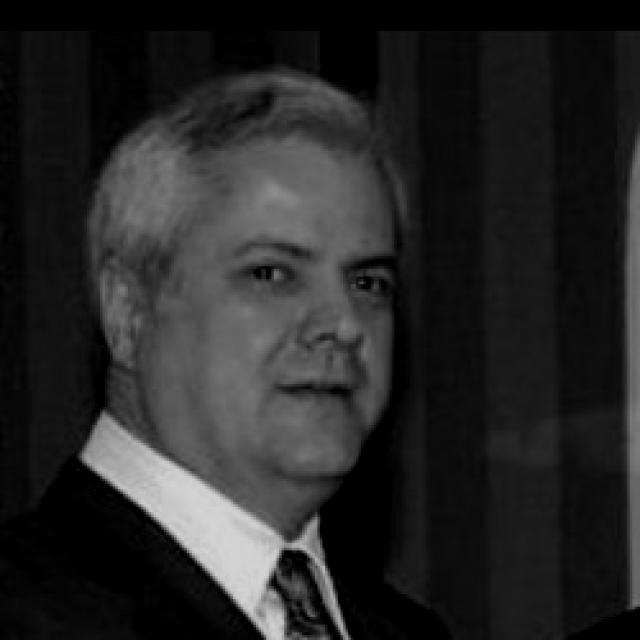real: (96, 118, 400, 484), (218, 243, 397, 304)
